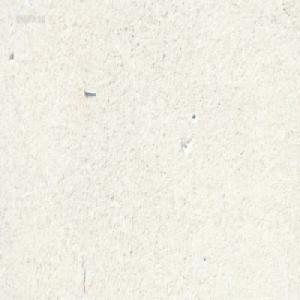Nail: (83, 87, 97, 96)
